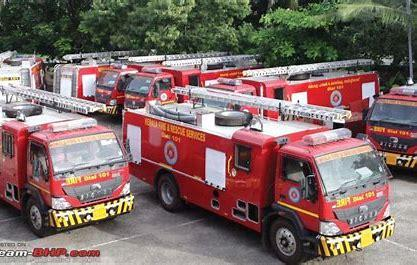Fire-engine: (122, 82, 395, 264)
